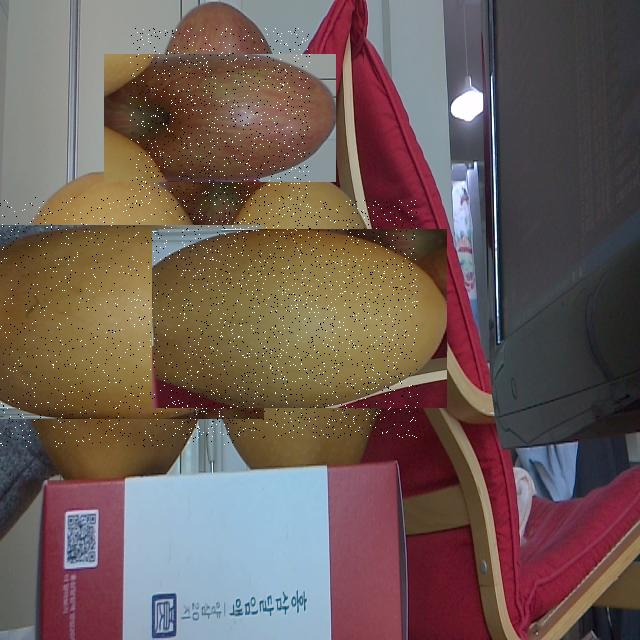apple: (130, 28, 310, 209)
pear: (0, 197, 236, 447), (181, 200, 418, 438)
